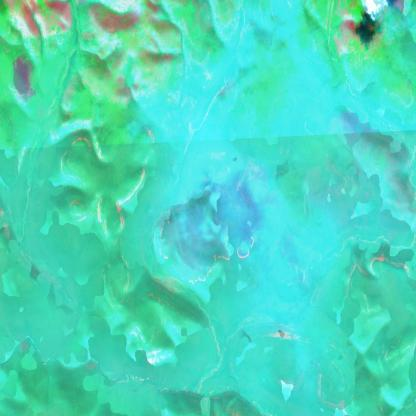fire: (139, 160, 276, 286)
